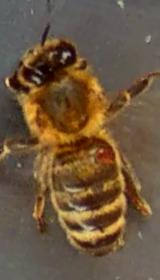varroa_mite: (82, 145, 128, 164)
